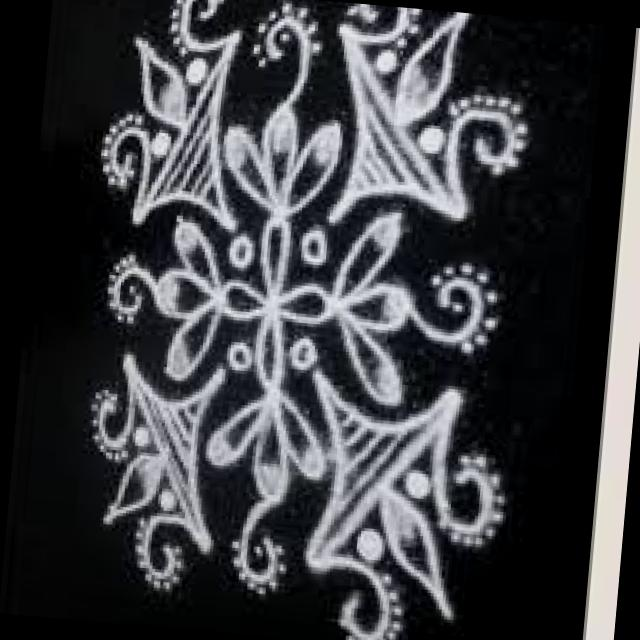rangoli: (48, 0, 552, 640)
